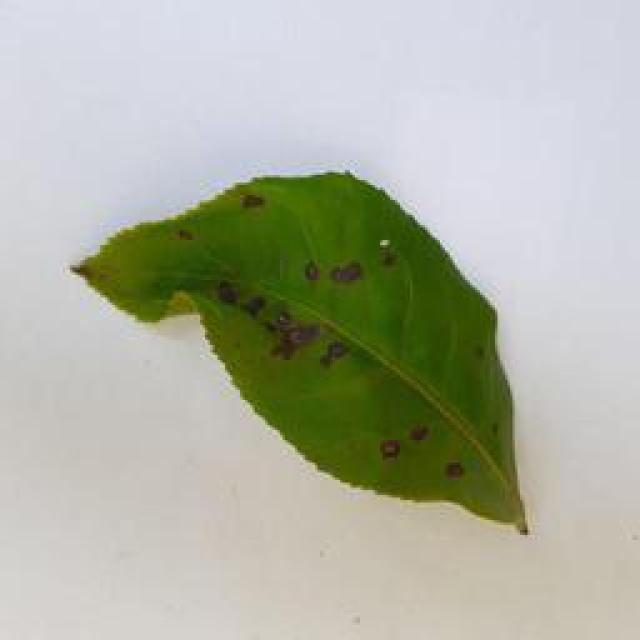Helopeltis: (62, 154, 540, 548)
